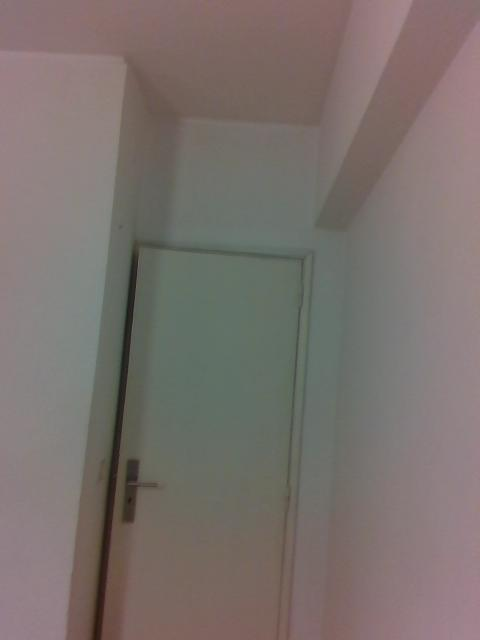door: (100, 248, 302, 640)
